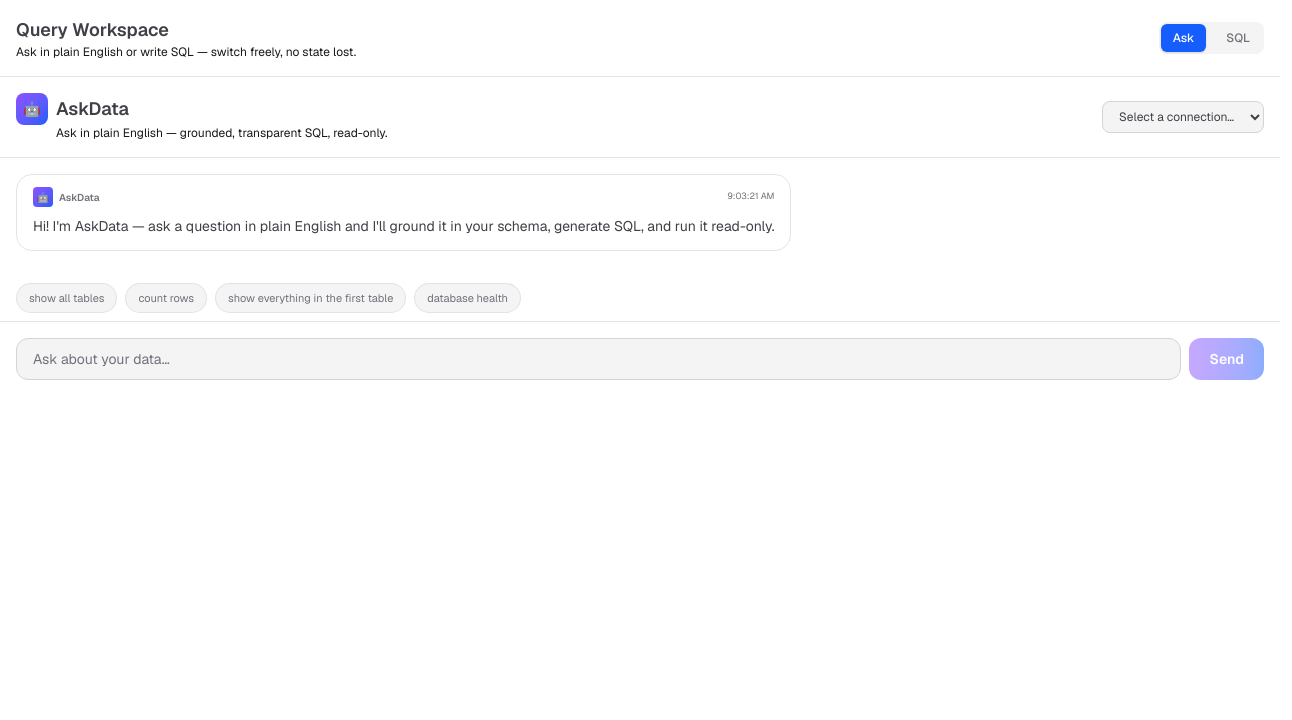
Scenario: QueryWorkspaceInner › preserves a SQL draft across a mode switch instead of remounting
What coordinates should you click on to do the following:
click the button "SQL"
I would click on:
 (1238, 38)
Its box is [1214, 24, 1262, 52].
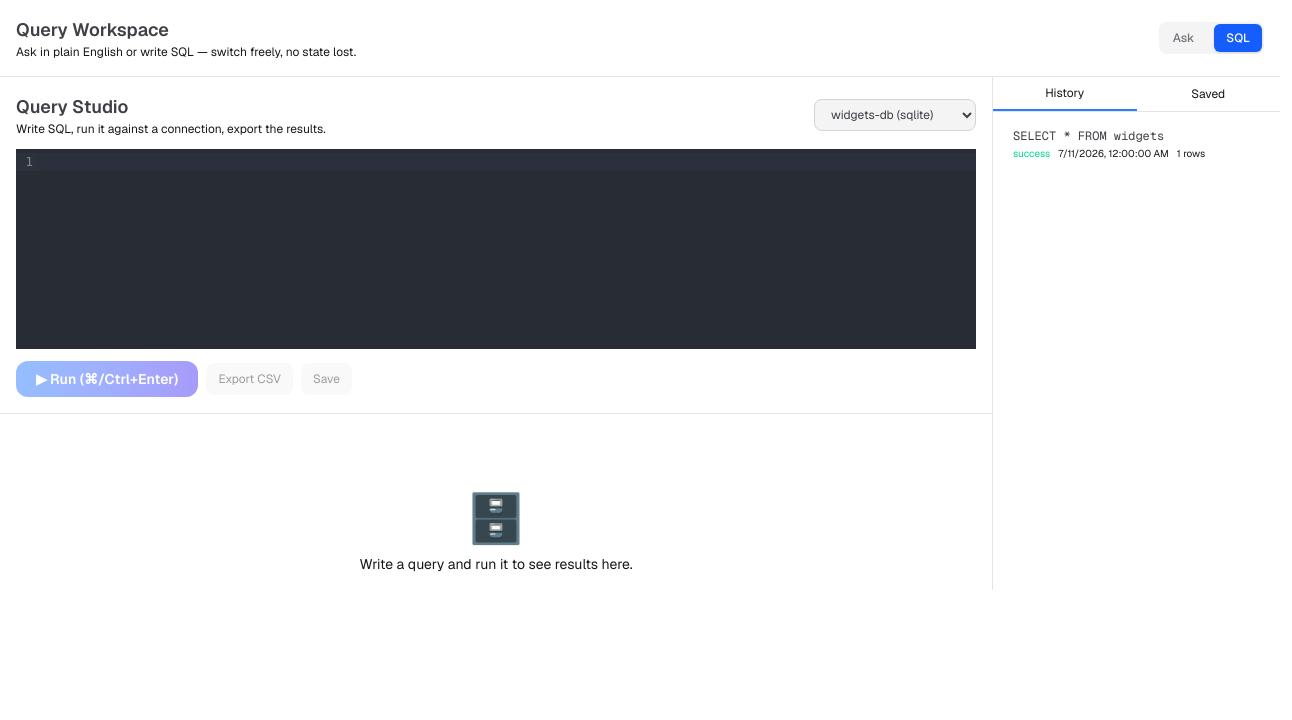
Expected: the text "SELECT * FROM widgets" is shown
What coordinates should you click on to do the following:
click the text "SELECT * FROM widgets"
I would click on:
 (1089, 136)
Its box is [1013, 128, 1164, 144].
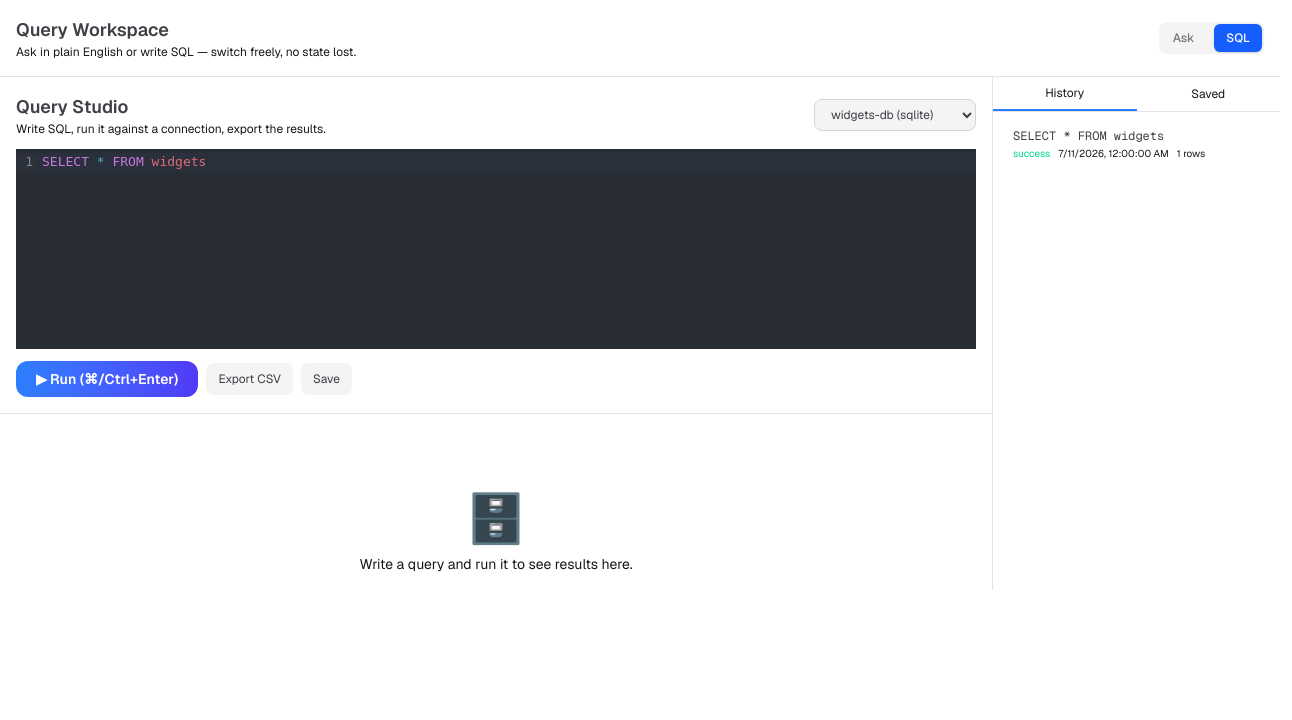
Expected: the field with class "cm-content" reads "SELECT * FROM widgets", [36, 153, 976, 171]
What coordinates should you click on to do the following:
click the button "Ask"
I would click on:
 (1184, 38)
Its box is [1161, 24, 1206, 52].
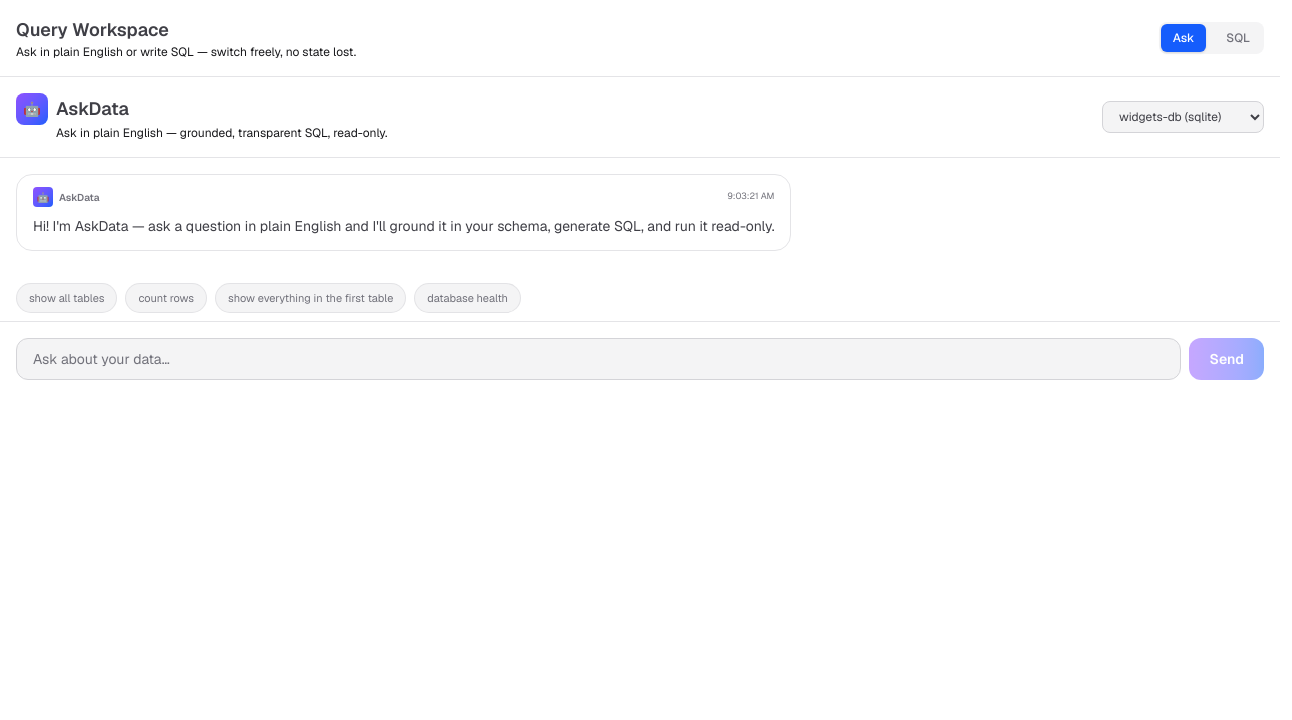
What coordinates should you click on to do the following:
click the button "SQL"
I would click on:
 (1238, 38)
Its box is [1214, 24, 1262, 52].
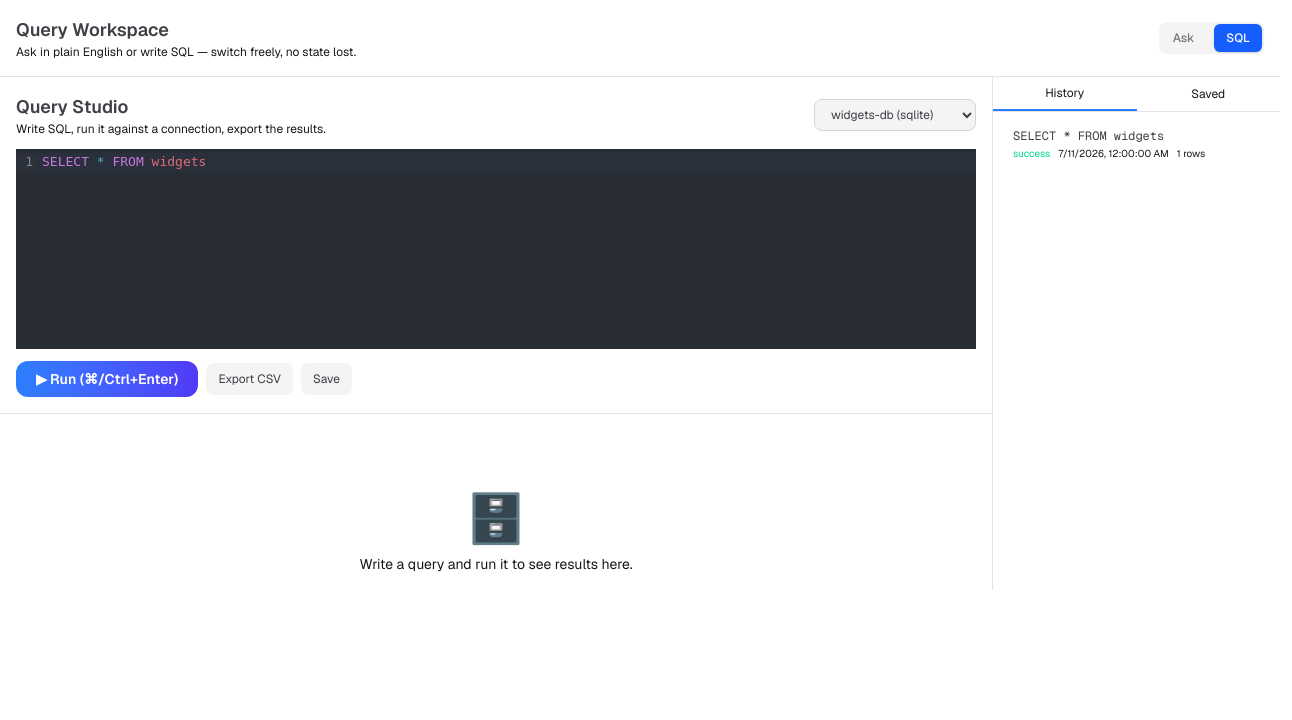
Expected: the field with class "cm-content" reads "SELECT * FROM widgets", [36, 153, 976, 171]
